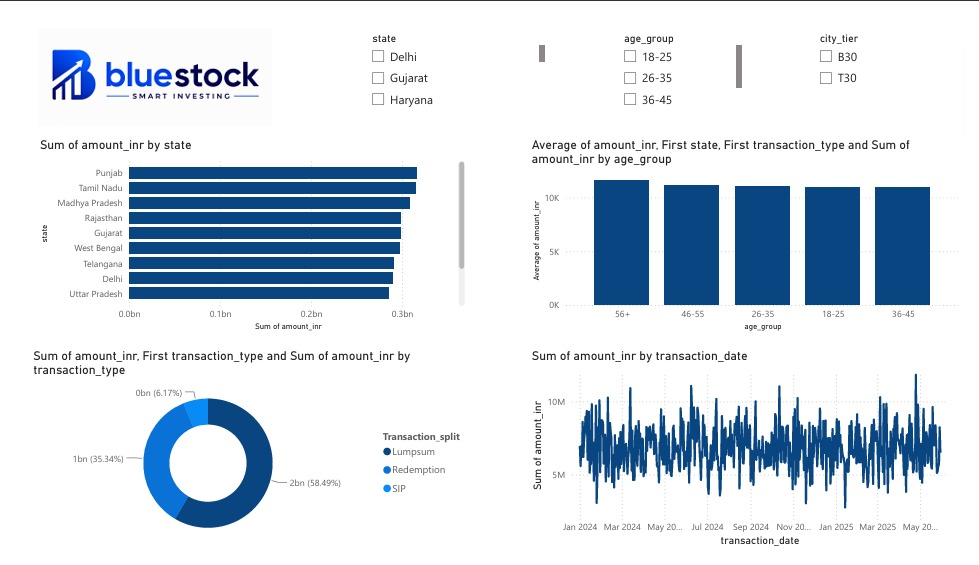

Layout of this report page (visuals, bound fields, positions):
{"tool":"powerbi","page":{"name":"Investor Analytics","canvas":[1280,720],"ordinal":2},"visuals":[{"type":"clusteredBarChart","fields":{"Category":["investor_transactions_clean.state"],"Y":["Sum(investor_transactions_clean.amount_inr)"]},"box":[24.9,161,585.4,266.3],"z":0},{"type":"donutChart","fields":{"Category":["investor_transactions_clean.transaction_type"],"Y":["Sum(investor_transactions_clean.amount_inr)"]},"box":[16.1,446.3,601.5,273.7],"z":1},{"type":"clusteredColumnChart","fields":{"Category":["investor_transactions_clean.age_group"],"Y":["Avg(investor_transactions_clean.amount_inr)"]},"box":[690.7,161,589.8,266.3],"z":2},{"type":"lineChart","fields":{"Category":["investor_transactions_clean.transaction_date"],"Y":["Sum(investor_transactions_clean.amount_inr)"]},"box":[690.7,446.3,589.8,273.7],"z":3},{"type":"slicer","fields":{"Values":["investor_transactions_clean.state"]},"box":[466.8,13.2,251.7,118.5],"z":4},{"type":"slicer","fields":{"Values":["investor_transactions_clean.age_group"]},"box":[807.8,13.2,178.5,118.5],"z":5},{"type":"slicer","fields":{"Values":["investor_transactions_clean.city_tier"]},"box":[1072.7,13.2,175.6,118.5],"z":6},{"type":"image","box":[0,13.2,371.7,131.7],"z":7}]}

Visuals, with their boxes in screenshot pixels (x1, y1, x2, y2), scaled from the page's 1280x720 canvas onto the 979x565 screenshot:
clusteredBarChart - investor_transactions_clean.state x Sum(investor_transactions_clean.amount_inr): box=[19, 126, 467, 335]
donutChart - investor_transactions_clean.transaction_type x Sum(investor_transactions_clean.amount_inr): box=[12, 350, 472, 564]
clusteredColumnChart - investor_transactions_clean.age_group x Avg(investor_transactions_clean.amount_inr): box=[528, 126, 978, 335]
lineChart - investor_transactions_clean.transaction_date x Sum(investor_transactions_clean.amount_inr): box=[528, 350, 978, 564]
slicer - investor_transactions_clean.state: box=[357, 10, 550, 103]
slicer - investor_transactions_clean.age_group: box=[618, 10, 754, 103]
slicer - investor_transactions_clean.city_tier: box=[820, 10, 955, 103]
image: box=[0, 10, 284, 114]
